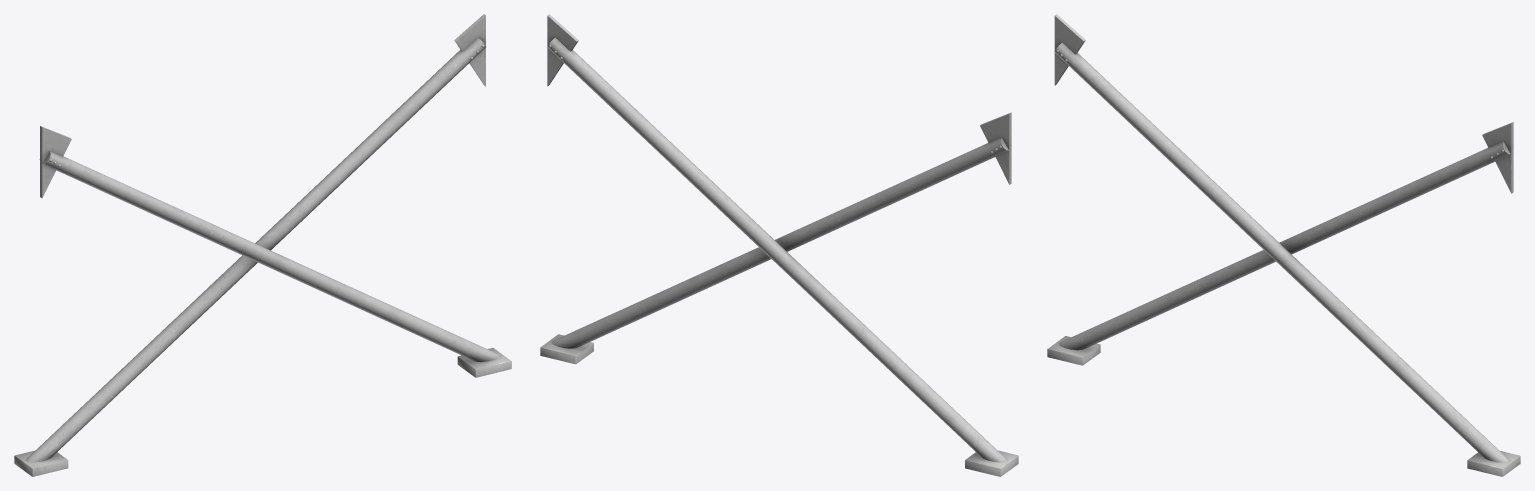
The model's file is StructureFrame.FBX.
The picture shows the model from 3 angles, left to right: view 1: azimuth 30°, elevation 25°; view 2: azimuth 150°, elevation 25°; view 3: azimuth 330°, elevation 25°; orthographic projection.
Parts seen in each view (by area): view 1: StructureFrame; view 2: StructureFrame; view 3: StructureFrame.
Boxes of the visible parts, left/top/right/bottom form: StructureFrame: left=14, top=14, right=511, bottom=476; StructureFrame: left=540, top=14, right=1018, bottom=476; StructureFrame: left=1047, top=14, right=1520, bottom=476.
Bounding box in the file's own units: 590 × 418 × 60.
